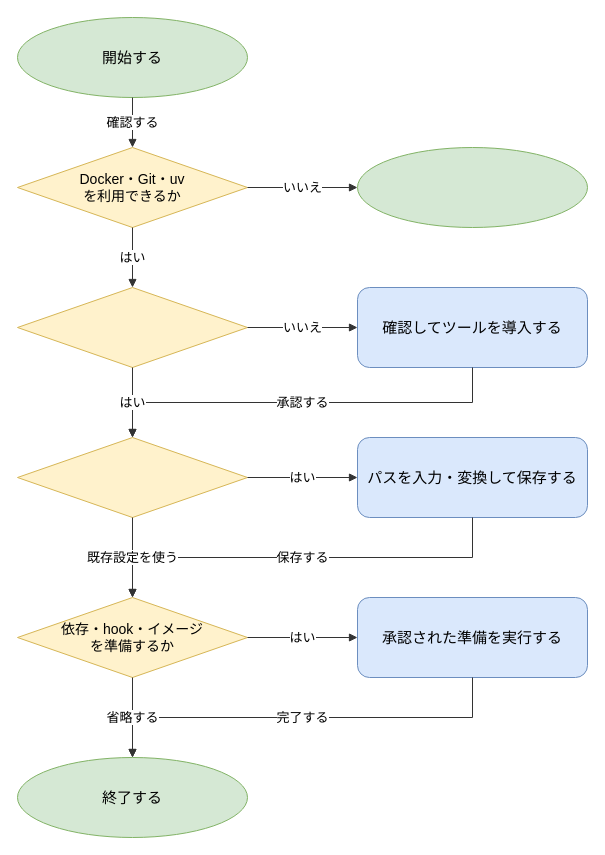
The diagram is 605 pixels wide and 855 high, and some of its shapes have lost their labels. Here are the shapes that lost their labels. From the top down, the centre of each, then its label:
At pixel 472 187: "手順を案内して終了する".
At pixel 132 327: "go-task・prek を利用できるか".
At pixel 132 477: "ホストパスを変更するか".
